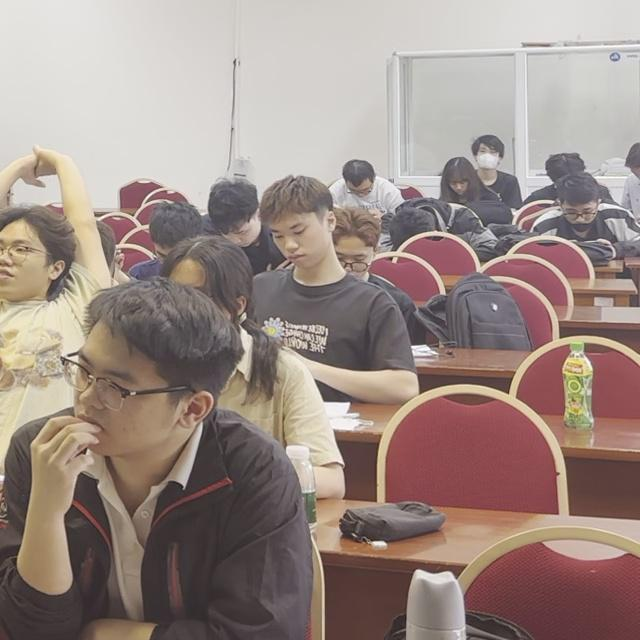Looking away: (272, 208, 331, 265), (217, 208, 260, 246), (347, 172, 372, 198), (448, 174, 471, 197)
Looking forward: (72, 319, 182, 456), (472, 138, 504, 172)
Phone use: (528, 180, 640, 265)
